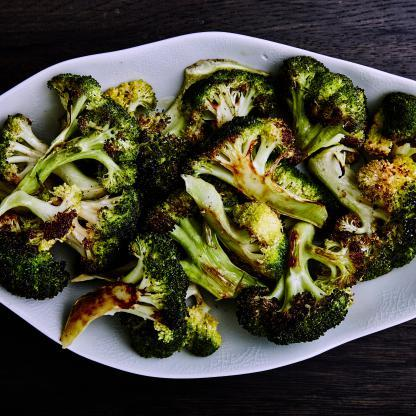broccoli: (0, 55, 415, 360)
